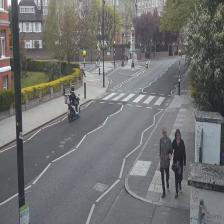person: (169, 129, 186, 197), (159, 127, 173, 198)
